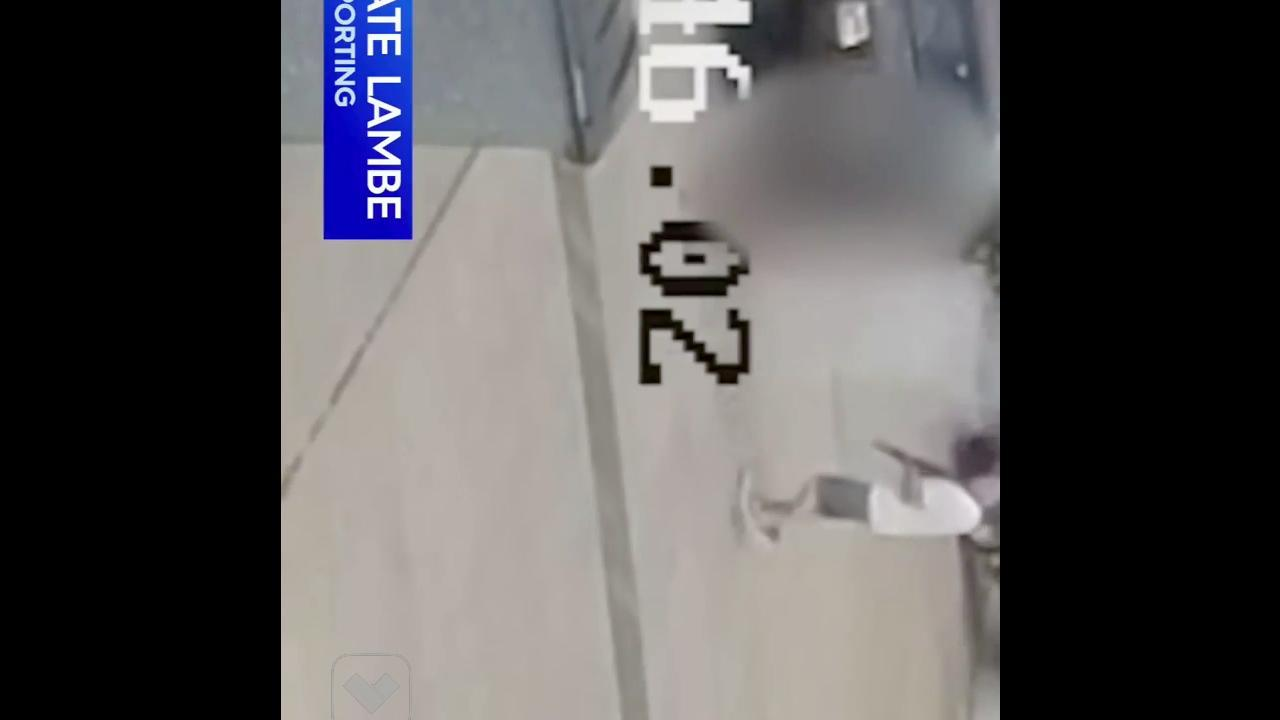gun: (868, 438, 956, 483)
